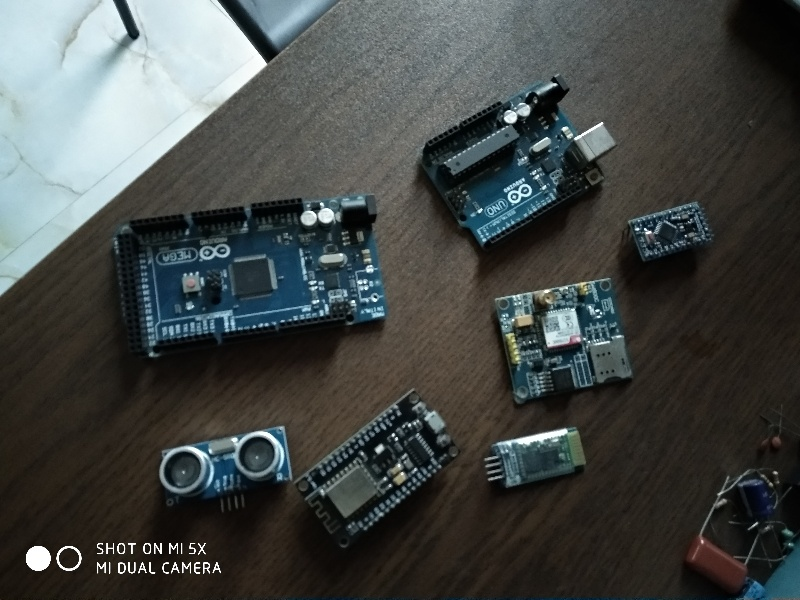Arduino Mega 2560: (107, 188, 401, 365)
Arduino Pro Mini: (620, 197, 722, 268)
Arduino UNO: (413, 65, 619, 260)
HC-05: (482, 426, 597, 487)
NodeMCU: (292, 384, 465, 554)
SIM800: (489, 273, 642, 409)
Sonar Sensor: (149, 420, 299, 510)
